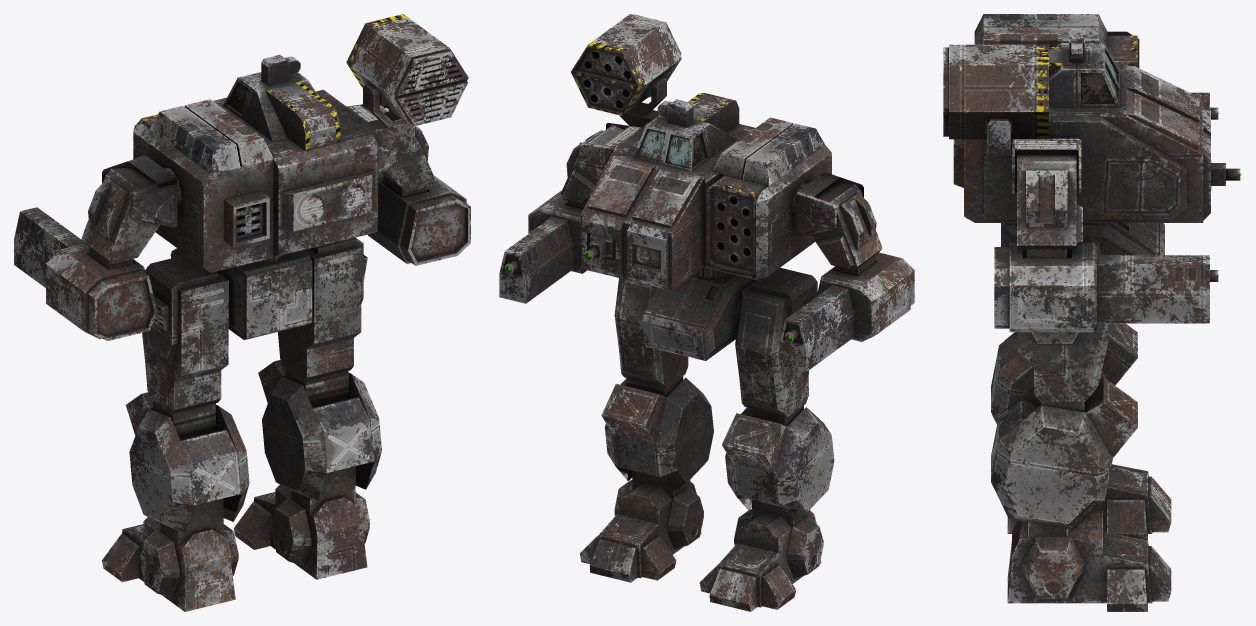
The model's file is Hellspawn.FBX.
3 renders of one model, left to right at view 1: azimuth 30°, elevation 25°; view 2: azimuth 150°, elevation 25°; view 3: azimuth 270°, elevation 25°, orthographic. The views are drawn at different scales.
Parts seen in each view (by area): view 1: torso, lupperleg, rlowerleg, llowerleg, llowerarm, lfoot, rfoot, rupperleg, launcher_2, lupperarm, rlowerarm, pelvis (+1 smaller); view 2: torso, rlowerleg, llowerleg, llowerarm, rfoot, lfoot, lupperleg, launcher_2, pelvis, lupperarm, rlowerarm, launcher_1 (+3 smaller); view 3: torso, rlowerarm, rlowerleg, rfoot, launcher_2, rupperarm, rupperleg, lfoot, llowerleg, pelvis, launcher_1, mantlet_5.
Boxes of the visible parts, bbox=[...] form: torso: bbox=[133, 55, 414, 272]; lupperleg: bbox=[142, 255, 228, 439]; rlowerleg: bbox=[258, 360, 381, 501]; llowerleg: bbox=[125, 392, 249, 533]; llowerarm: bbox=[14, 207, 157, 341]; lfoot: bbox=[102, 498, 238, 611]; rfoot: bbox=[233, 466, 369, 579]; rupperleg: bbox=[278, 237, 367, 407]; launcher_2: bbox=[346, 14, 468, 126]; lupperarm: bbox=[81, 155, 177, 269]; rlowerarm: bbox=[368, 173, 470, 265]; pelvis: bbox=[170, 248, 312, 339]; torso: bbox=[580, 77, 831, 290]; rlowerleg: bbox=[601, 377, 713, 491]; llowerleg: bbox=[722, 407, 834, 521]; llowerarm: bbox=[779, 252, 914, 371]; rfoot: bbox=[579, 470, 703, 582]; lfoot: bbox=[699, 499, 823, 611]; lupperleg: bbox=[735, 267, 817, 426]; launcher_2: bbox=[571, 14, 681, 115]; pelvis: bbox=[642, 273, 755, 360]; lupperarm: bbox=[795, 172, 882, 276]; rlowerarm: bbox=[499, 190, 586, 303]; launcher_1: bbox=[706, 175, 768, 276]; torso: bbox=[953, 14, 1210, 222]; rlowerarm: bbox=[994, 242, 1218, 332]; rlowerleg: bbox=[991, 377, 1137, 529]; rfoot: bbox=[1007, 511, 1171, 611]; launcher_2: bbox=[943, 44, 1048, 139]; rupperarm: bbox=[1012, 138, 1082, 258]; rupperleg: bbox=[1018, 234, 1112, 412]; lfoot: bbox=[1007, 464, 1171, 540]; llowerleg: bbox=[991, 323, 1137, 424]; pelvis: bbox=[1001, 223, 1164, 255]; launcher_1: bbox=[1107, 35, 1137, 60]; mantlet_5: bbox=[1211, 159, 1241, 189].
Size of the model in its own units: 43.72 by 57.55 by 27.39.
1 material, 1 textured.
